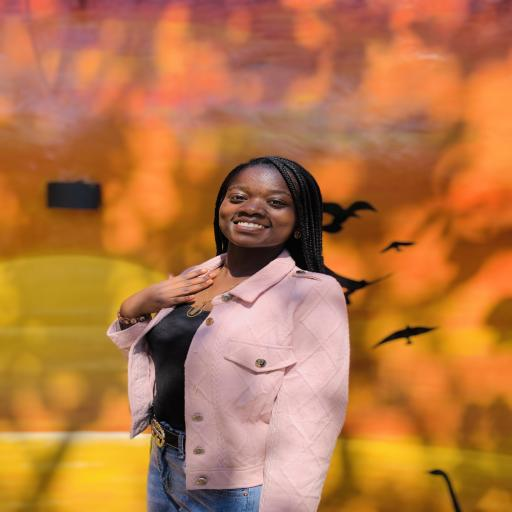LAURENE: (203, 144, 322, 269)
